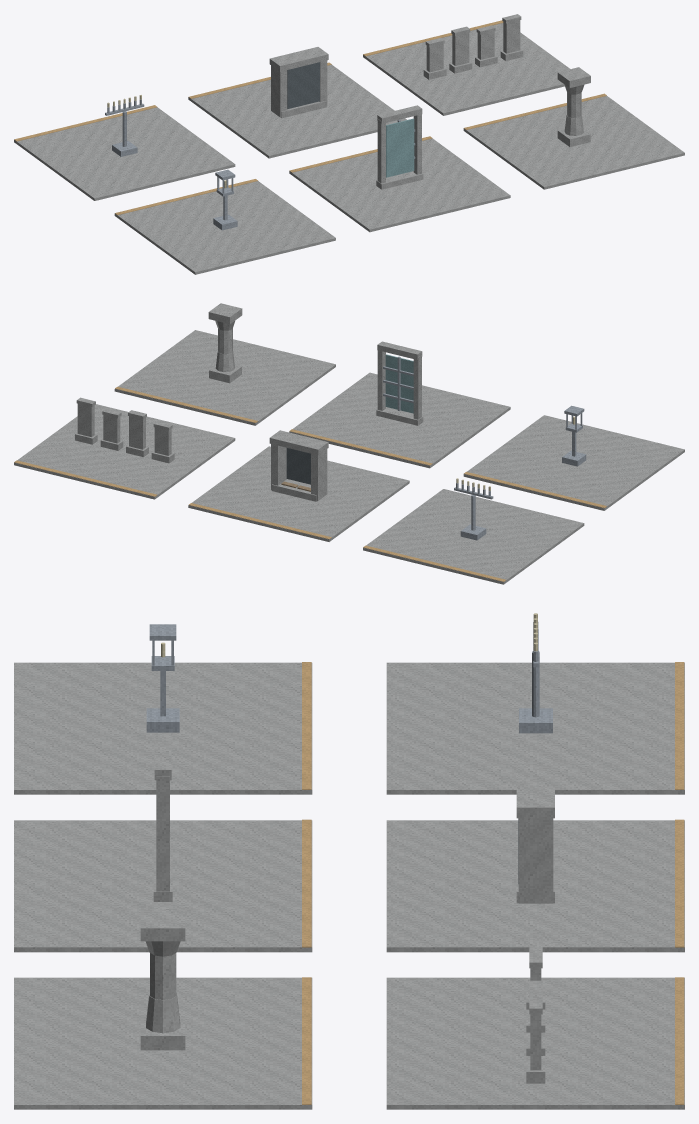
File: level_blockout_kit_wld_10_p06.glb
3 views of the same model, one above another, from view 1: azimuth 30°, elevation 25°; view 2: azimuth 150°, elevation 25°; view 3: azimuth 270°, elevation 25° (orthographic). The views are drawn at different scales.
Visible parts, largest first — view 1: level_blockout_kit_wld_10_p06; view 2: level_blockout_kit_wld_10_p06; view 3: level_blockout_kit_wld_10_p06.
Part boxes in pixels (box(x1,y1,x2,y2)): level_blockout_kit_wld_10_p06: box(14, 14, 684, 274); level_blockout_kit_wld_10_p06: box(14, 303, 684, 584); level_blockout_kit_wld_10_p06: box(14, 613, 684, 1109).
Size of the model in its own units: 19.65 by 2.83 by 12.6.
7 materials, 7 textured.
